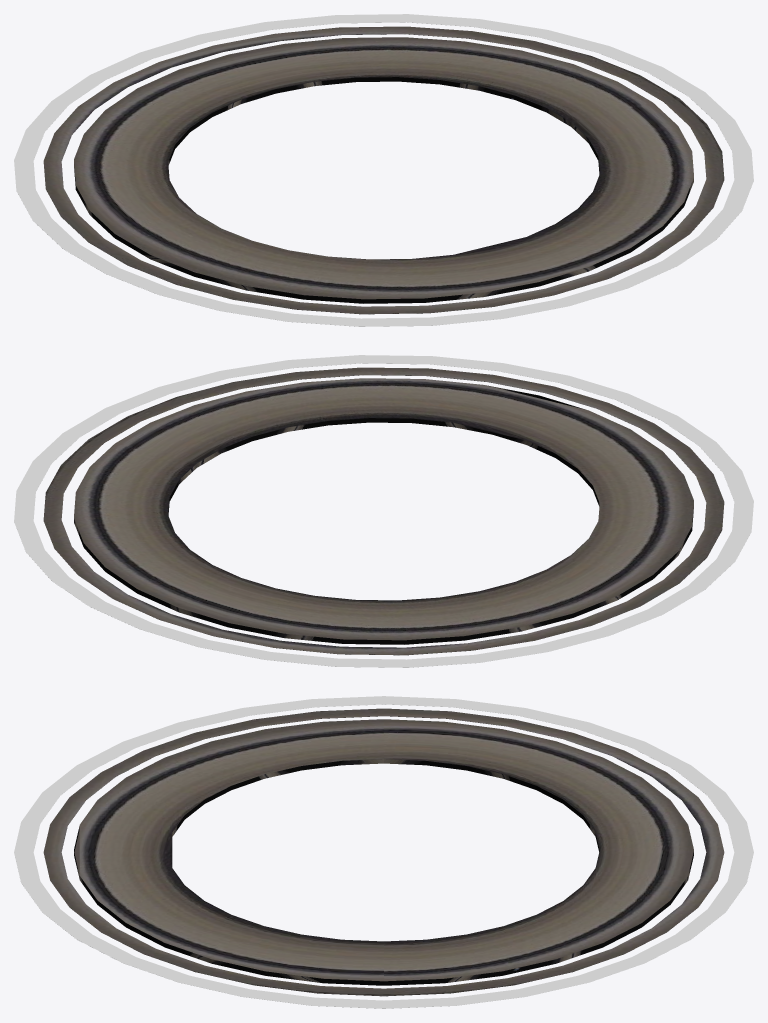
Rendered from anillos.dae.
3 views of the same model, one above another, from view 1: azimuth 30°, elevation 25°; view 2: azimuth 150°, elevation 25°; view 3: azimuth 270°, elevation 25° (orthographic).
Parts seen in each view (by area): view 1: Cylinder_001, Cylinder_002, Cylinder; view 2: Cylinder_001, Cylinder_002, Cylinder; view 3: Cylinder_001, Cylinder_002, Cylinder.
Boxes of the visible parts, box(x1,y1,x2,y2) form: Cylinder_001: box(74, 37, 693, 303); Cylinder_002: box(14, 14, 753, 326); Cylinder: box(43, 26, 724, 314); Cylinder_001: box(74, 378, 693, 644); Cylinder_002: box(14, 355, 753, 667); Cylinder: box(43, 367, 724, 655); Cylinder_001: box(74, 719, 693, 985); Cylinder_002: box(14, 696, 753, 1008); Cylinder: box(43, 708, 724, 996).
Size of the model in its own units: 7.74 by 7.74 by 0.0518.
1 material, 1 textured.
